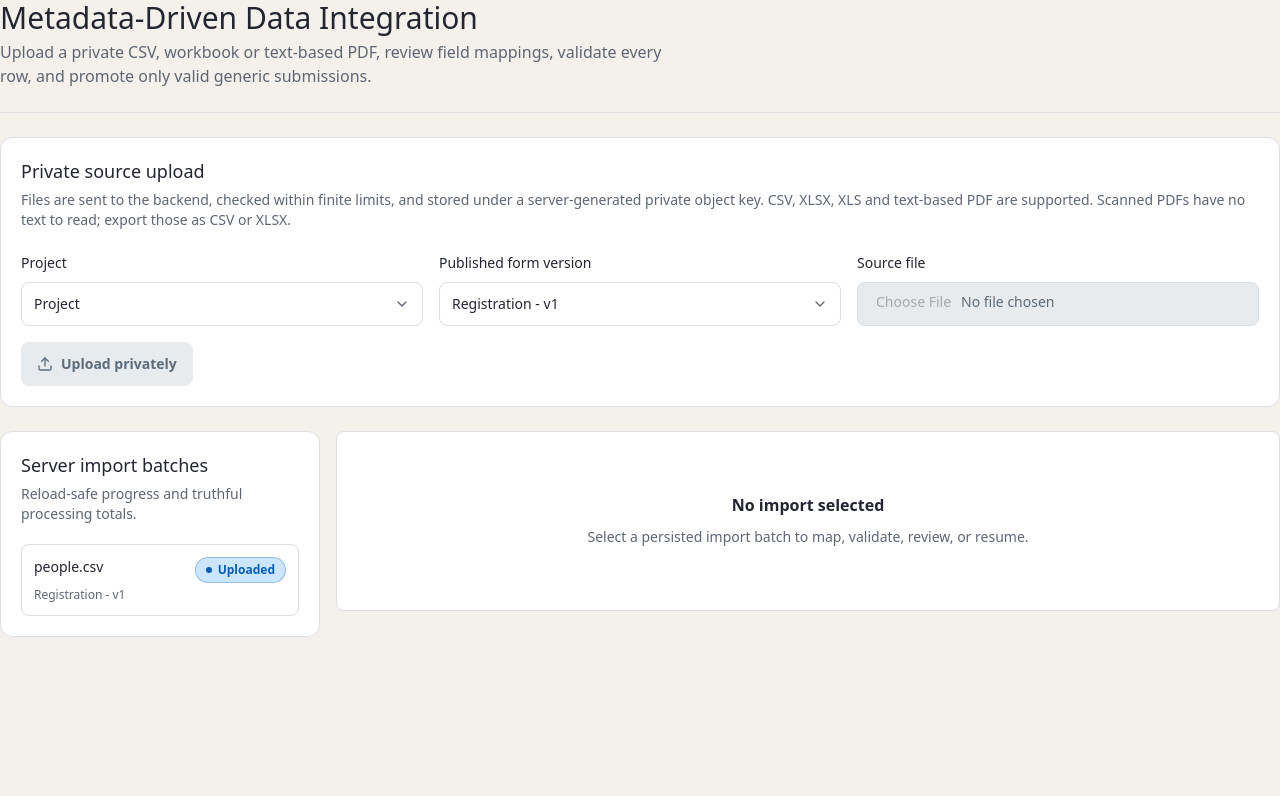
Test case: import workspace AUTO_SMART_V2 suggestions › confirms all suggestions and writes one manual revision through the review path
This screenshot has width=1280, height=796.
Click the text "people.csv": (69, 567) top-left (34, 557), bottom-right (103, 577)
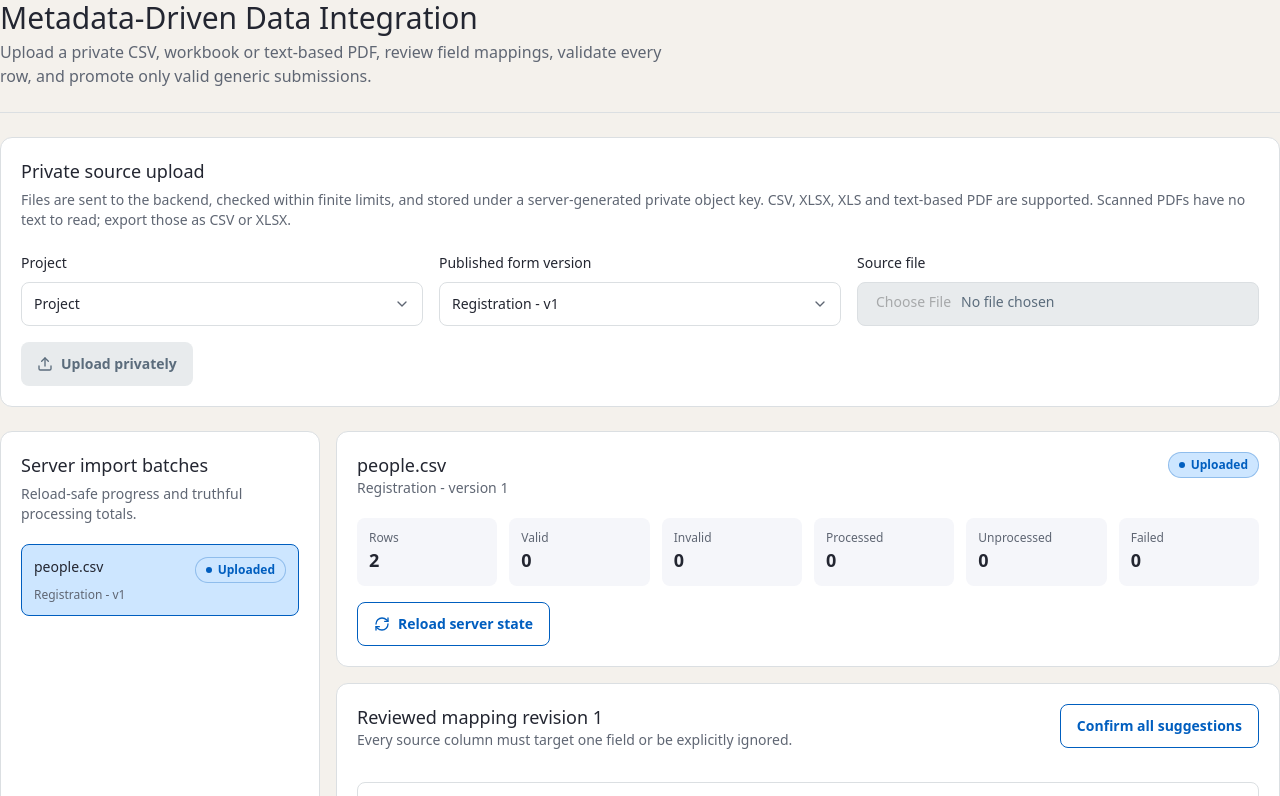
Click the button "Confirm all suggestions": (1159, 726) top-left (1060, 704), bottom-right (1259, 748)
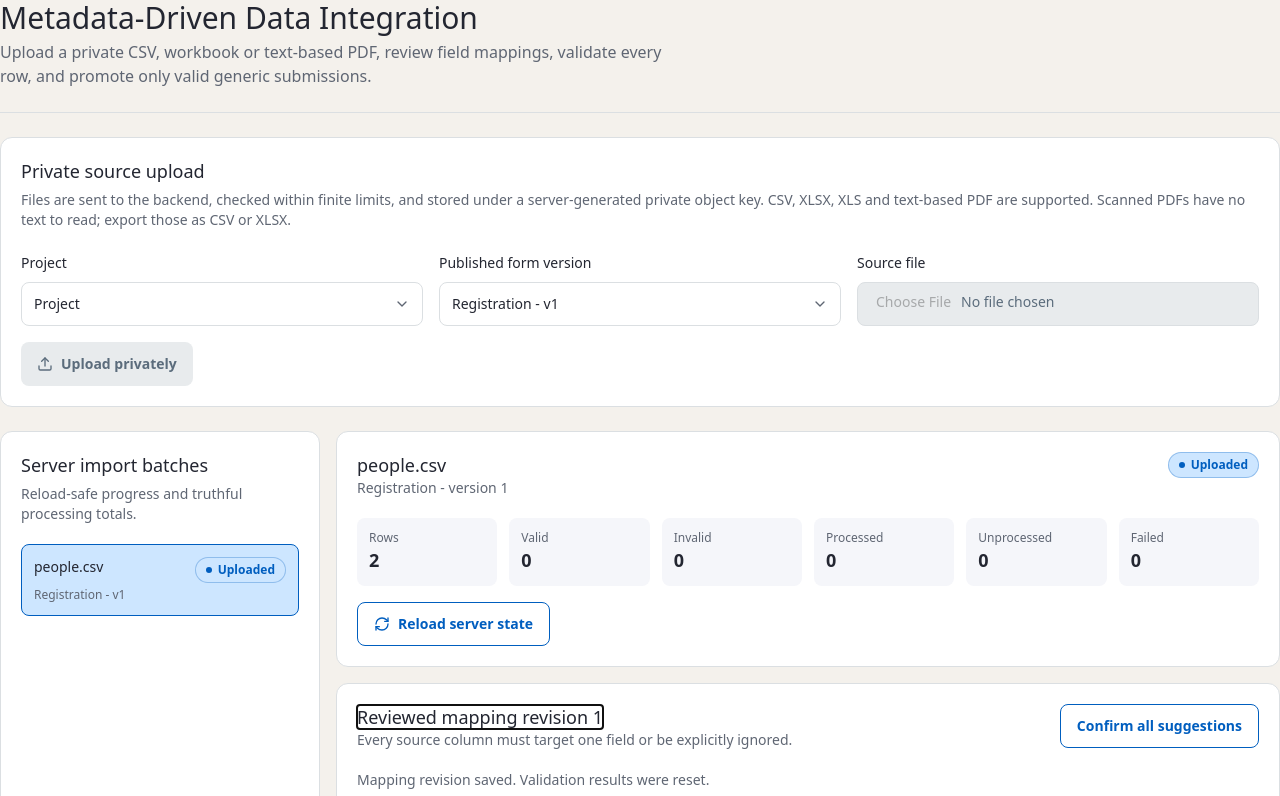
Now the text "Mapping revision saved. Validation results were reset." is shown, box top-left (357, 770), bottom-right (709, 789)
